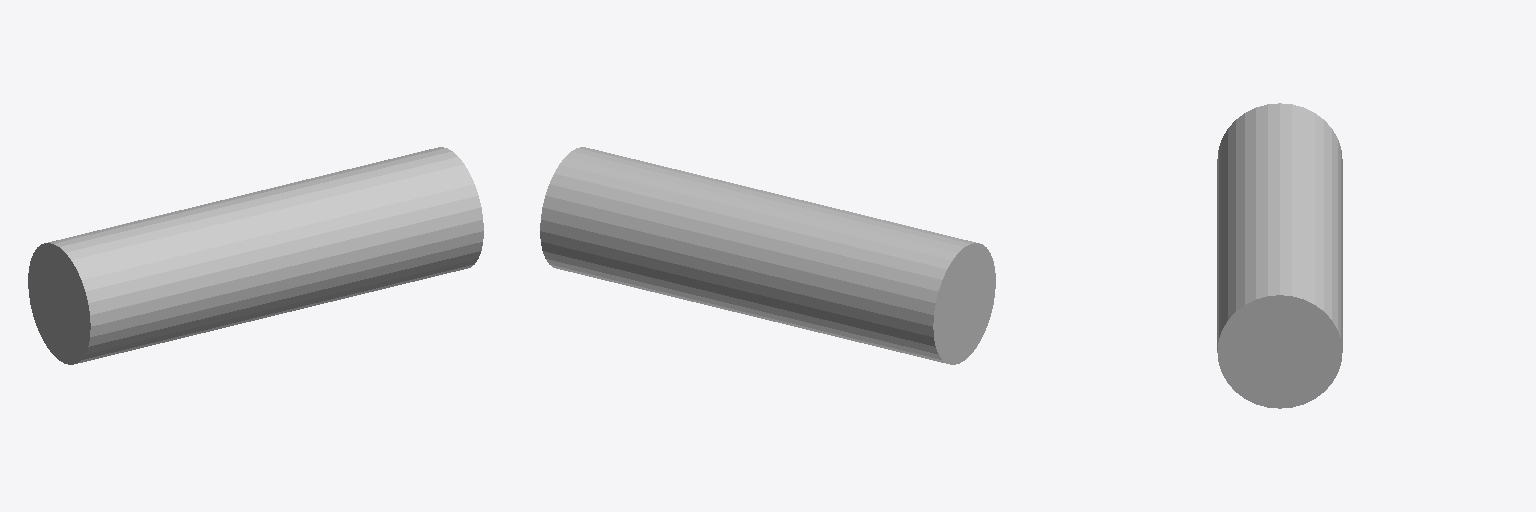
The model's file is VerbindungsstueckS3.obj.
3 renders of one model, left to right at view 1: azimuth 30°, elevation 25°; view 2: azimuth 150°, elevation 25°; view 3: azimuth 270°, elevation 25°, orthographic.
Parts seen in each view (by area): view 1: Verbindungsstück_S.003_Cylinder.026; view 2: Verbindungsstück_S.003_Cylinder.026; view 3: Verbindungsstück_S.003_Cylinder.026.
Boxes of the visible parts, <box> form: Verbindungsstück_S.003_Cylinder.026: <box>28,147,483,364</box>; Verbindungsstück_S.003_Cylinder.026: <box>540,147,995,364</box>; Verbindungsstück_S.003_Cylinder.026: <box>1217,103,1342,408</box>.
Bounding box in the file's own units: 0.8463 × 0.2335 × 0.2335.